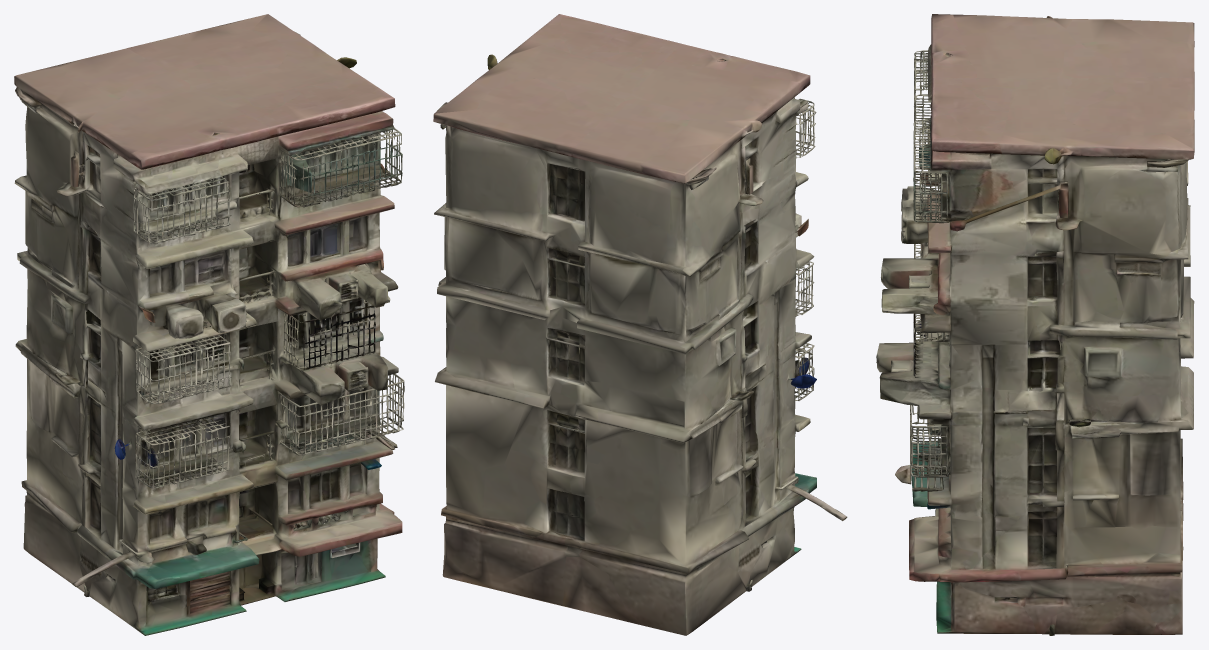
The model's file is tonglau.glb.
3 renders of one model, left to right at view 1: azimuth 30°, elevation 25°; view 2: azimuth 150°, elevation 25°; view 3: azimuth 270°, elevation 25°, orthographic. The views are drawn at different scales.
Visible parts, largest first — view 1: tripo_node_af486c77-f723-4b21-96a5-7637ee54be0a; view 2: tripo_node_af486c77-f723-4b21-96a5-7637ee54be0a; view 3: tripo_node_af486c77-f723-4b21-96a5-7637ee54be0a.
Boxes of the visible parts, <box> form: tripo_node_af486c77-f723-4b21-96a5-7637ee54be0a: <box>14,14,404,635</box>; tripo_node_af486c77-f723-4b21-96a5-7637ee54be0a: <box>433,14,847,635</box>; tripo_node_af486c77-f723-4b21-96a5-7637ee54be0a: <box>876,14,1194,635</box>.
Bounding box in the file's own units: 0.6898 × 0.981 × 0.5695.
Materials: 1 (1 with a texture image).
